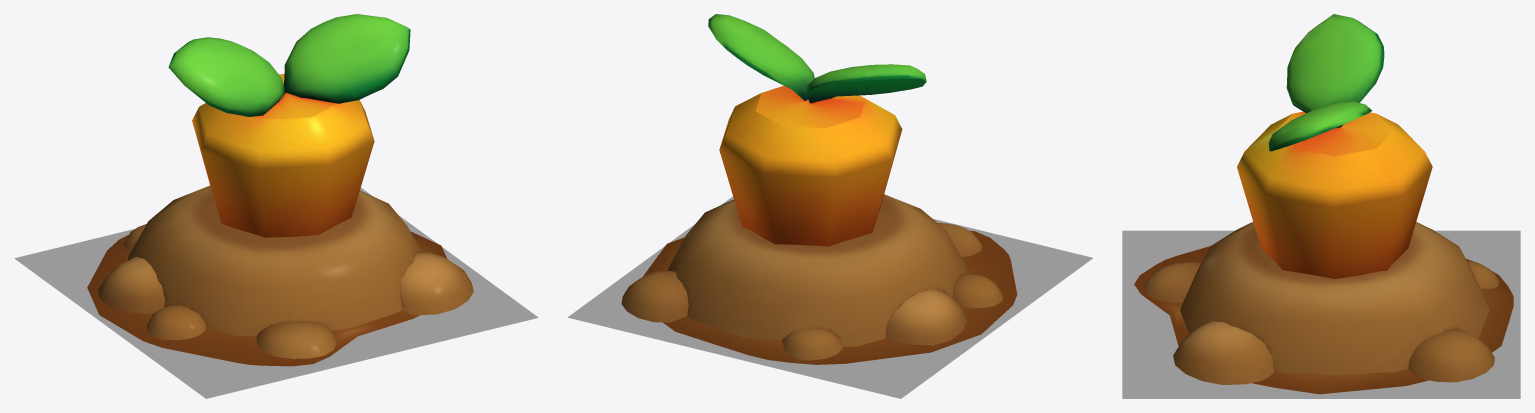
File: CarrotSoil.fbx
3 views of the same model, side by side, from view 1: azimuth 30°, elevation 25°; view 2: azimuth 150°, elevation 25°; view 3: azimuth 270°, elevation 25° (orthographic). The views are drawn at different scales.
Visible parts, largest first — view 1: CarrotSoil, Carrot, CarrotLeaf, CarrotGrid; view 2: CarrotSoil, Carrot, CarrotGrid, CarrotLeaf; view 3: CarrotSoil, Carrot, CarrotGrid, CarrotLeaf.
Boxes of the visible parts, box(x1,y1,x2,y2) form: CarrotSoil: box(87, 185, 473, 366); Carrot: box(192, 74, 374, 237); CarrotLeaf: box(168, 14, 410, 116); CarrotGrid: box(14, 187, 538, 398); CarrotSoil: box(621, 194, 1017, 364); Carrot: box(719, 85, 902, 246); CarrotGrid: box(567, 196, 1092, 398); CarrotLeaf: box(708, 14, 926, 103); CarrotSoil: box(1134, 222, 1513, 394); Carrot: box(1237, 111, 1432, 278); CarrotGrid: box(1122, 230, 1520, 398); CarrotLeaf: box(1268, 14, 1384, 151).
Size of the model in its own units: 1 by 0.7119 by 1.
Materials: 5 (4 with a texture image).
